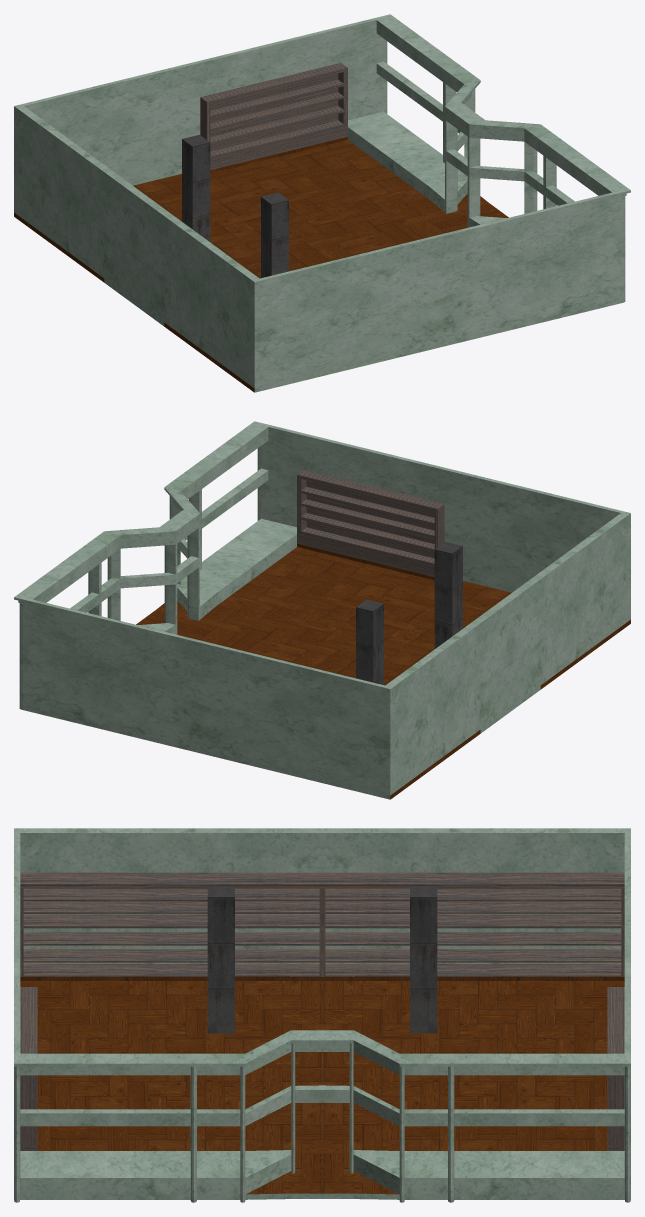
The model's file is Edificio.obj.
3 views of the same model, one above another, from view 1: azimuth 30°, elevation 25°; view 2: azimuth 150°, elevation 25°; view 3: azimuth 270°, elevation 25° (orthographic). The views are drawn at different scales.
Parts seen in each view (by area): view 1: Edificio; view 2: Edificio; view 3: Edificio.
Boxes of the visible parts, left/top/right/bottom form: Edificio: left=14, top=14, right=630, bottom=392; Edificio: left=14, top=421, right=630, bottom=799; Edificio: left=14, top=828, right=630, bottom=1202.
Bounding box in the file's own units: 109 × 30.65 × 121.
Materials: 4 (4 with a texture image).
